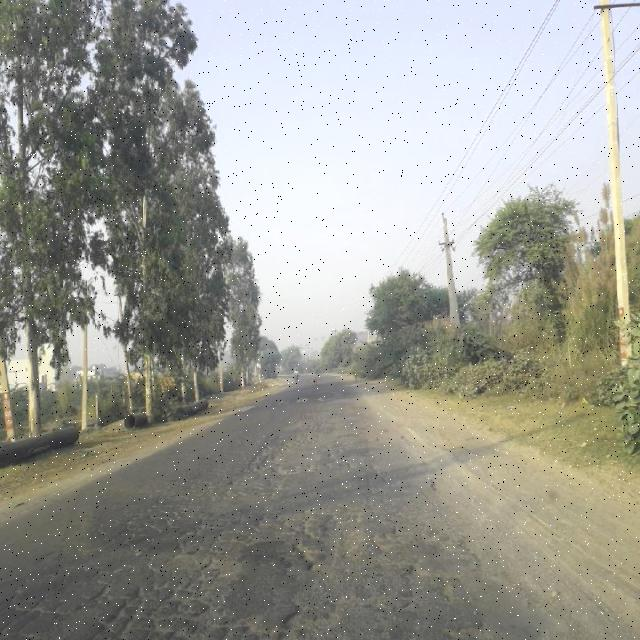D20: (1, 488, 536, 639)
D40: (186, 417, 389, 492)
